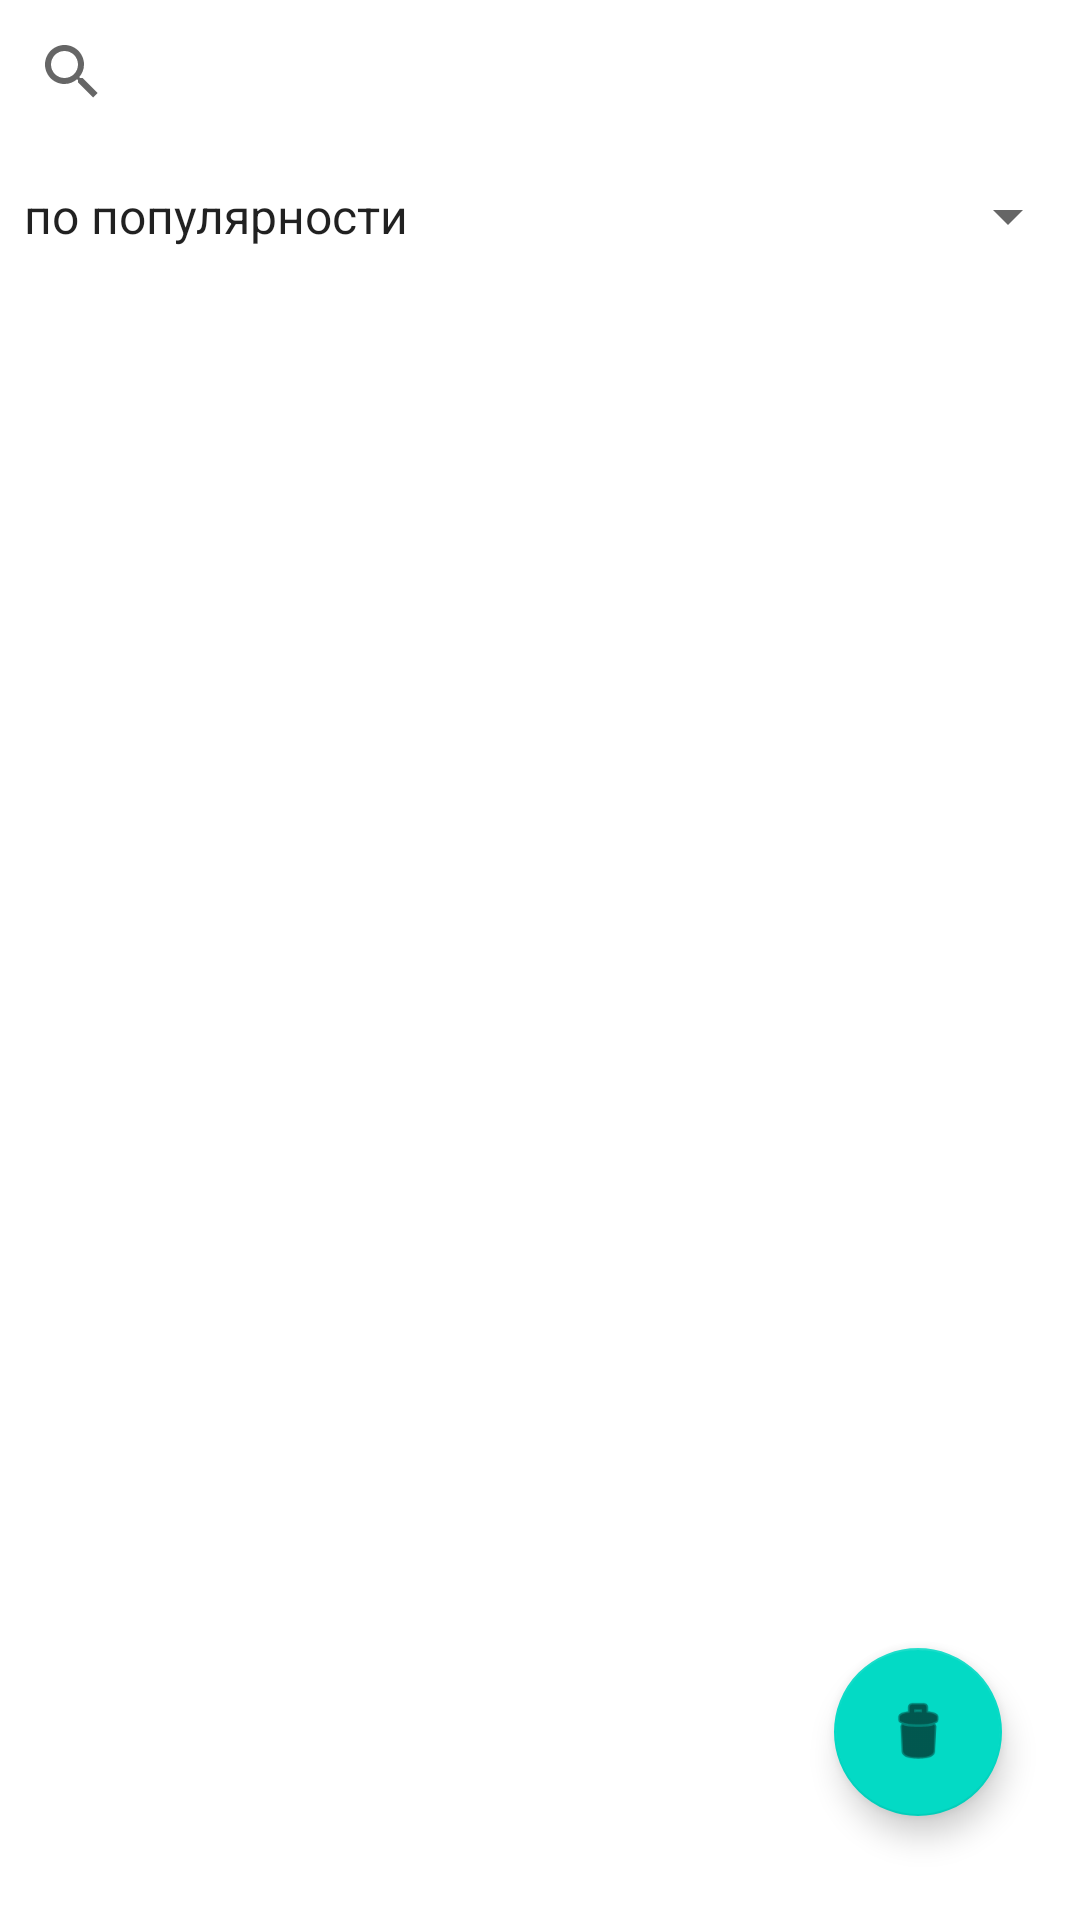

Where icons sit on this 1080px x 1920px app screen, as (x1=x1, y1=y1, x2=x2, y2=y2):
delete: (x1=834, y1=1648, x2=1002, y2=1816)
